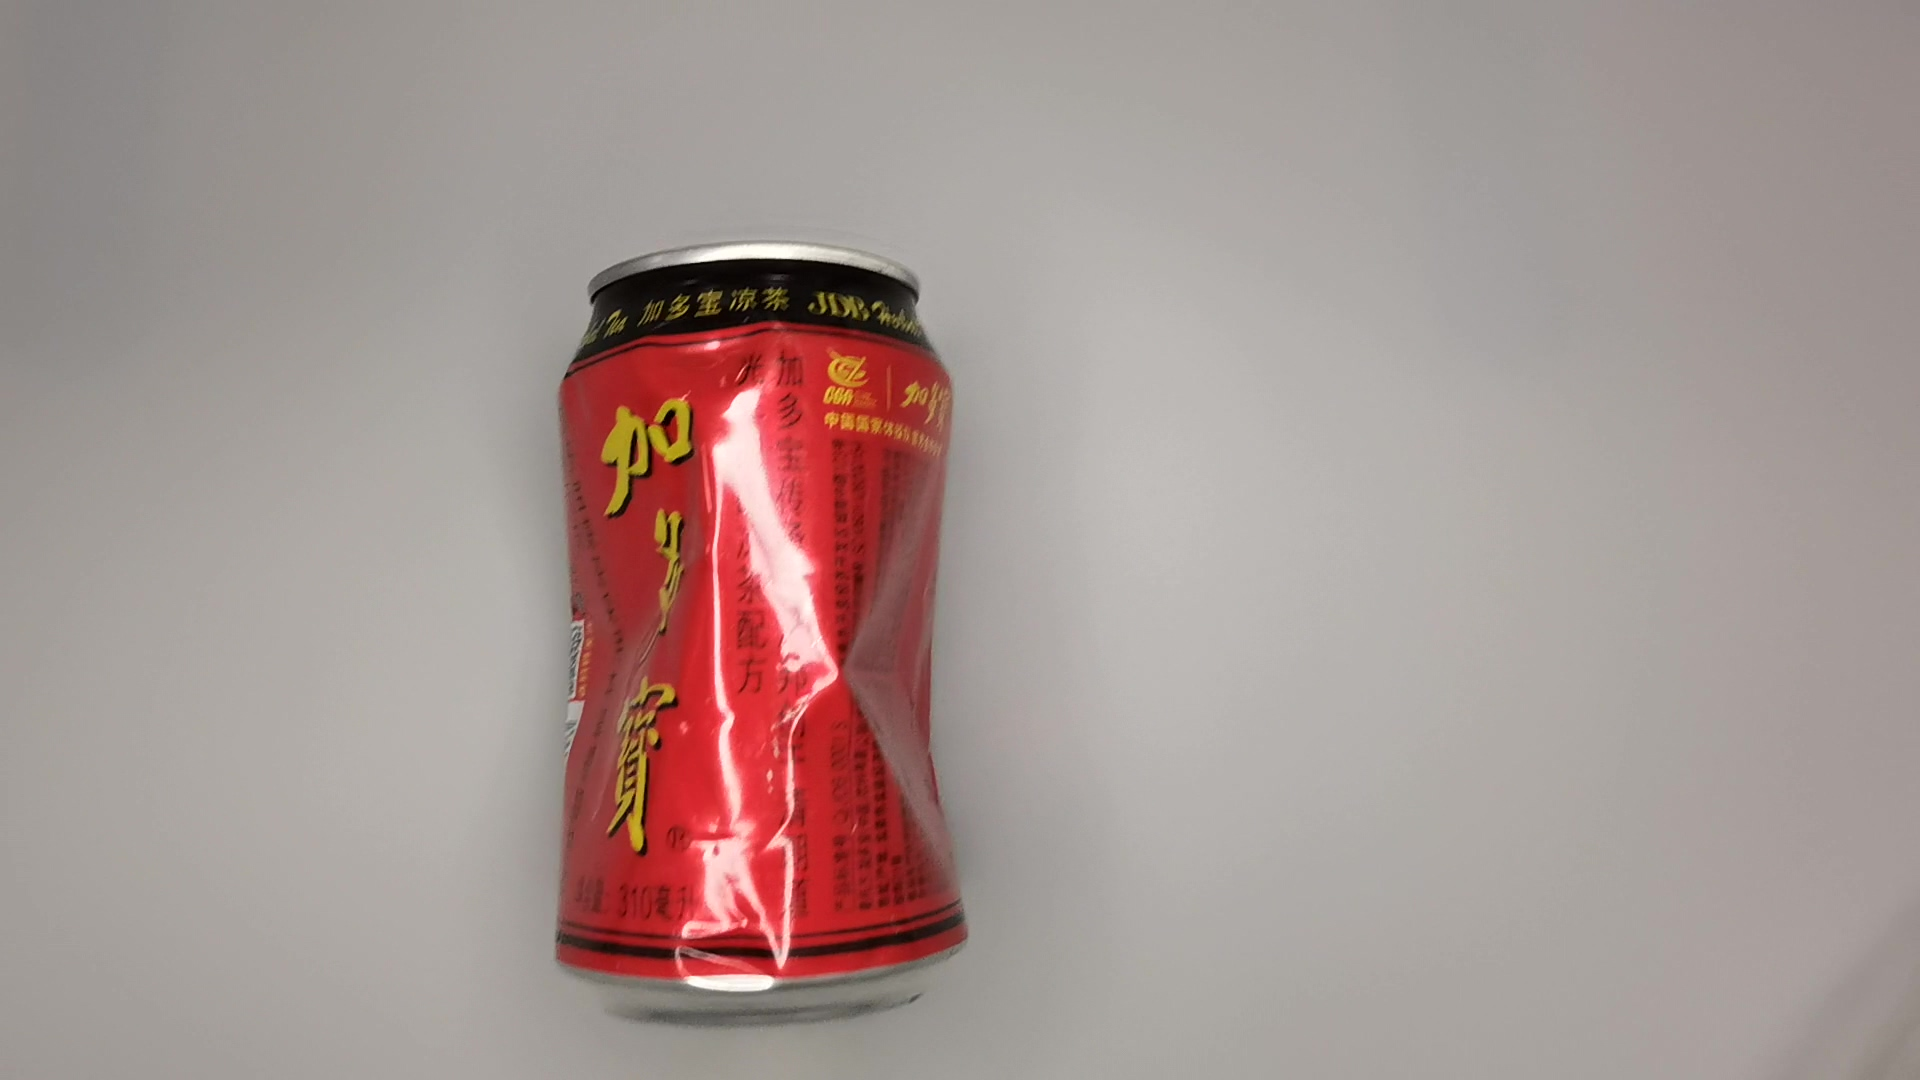can: (537, 233, 982, 1030)
